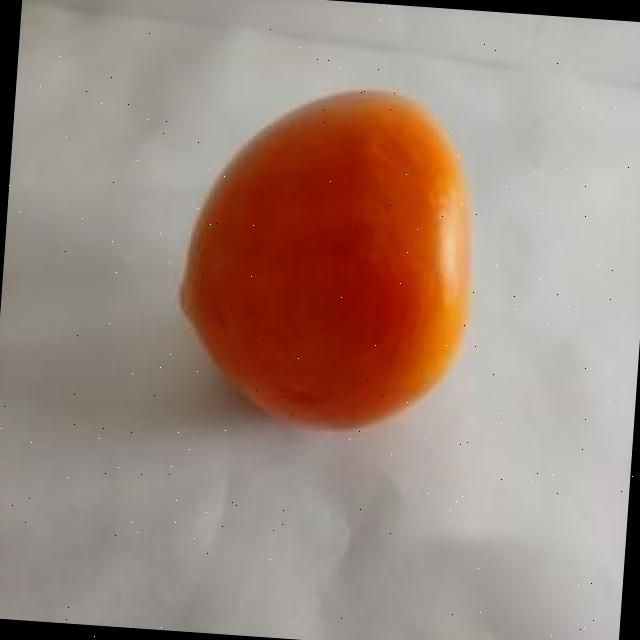Ripe: (163, 69, 494, 446)
